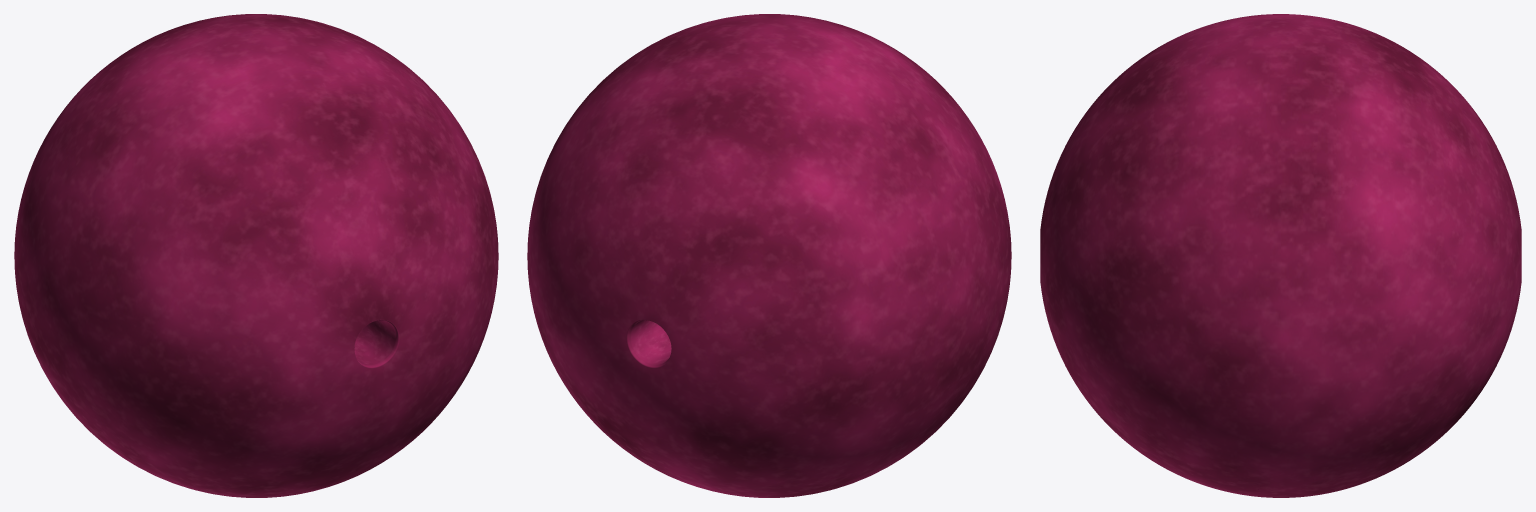
Rendered from ruby-10mm.glb.
The picture shows the model from 3 angles, left to right: view 1: azimuth 30°, elevation 25°; view 2: azimuth 150°, elevation 25°; view 3: azimuth 270°, elevation 25°; orthographic projection.
Parts seen in each view (by area): view 1: ruby.001; view 2: ruby.001; view 3: ruby.001.
Part boxes in pixels (x1,y1,x2,y2): ruby.001: (14, 14, 498, 497); ruby.001: (527, 14, 1011, 497); ruby.001: (1040, 14, 1521, 497).
Size of the model in its own units: 0.01 by 0.01 by 0.00994.
2 materials, 1 textured.
